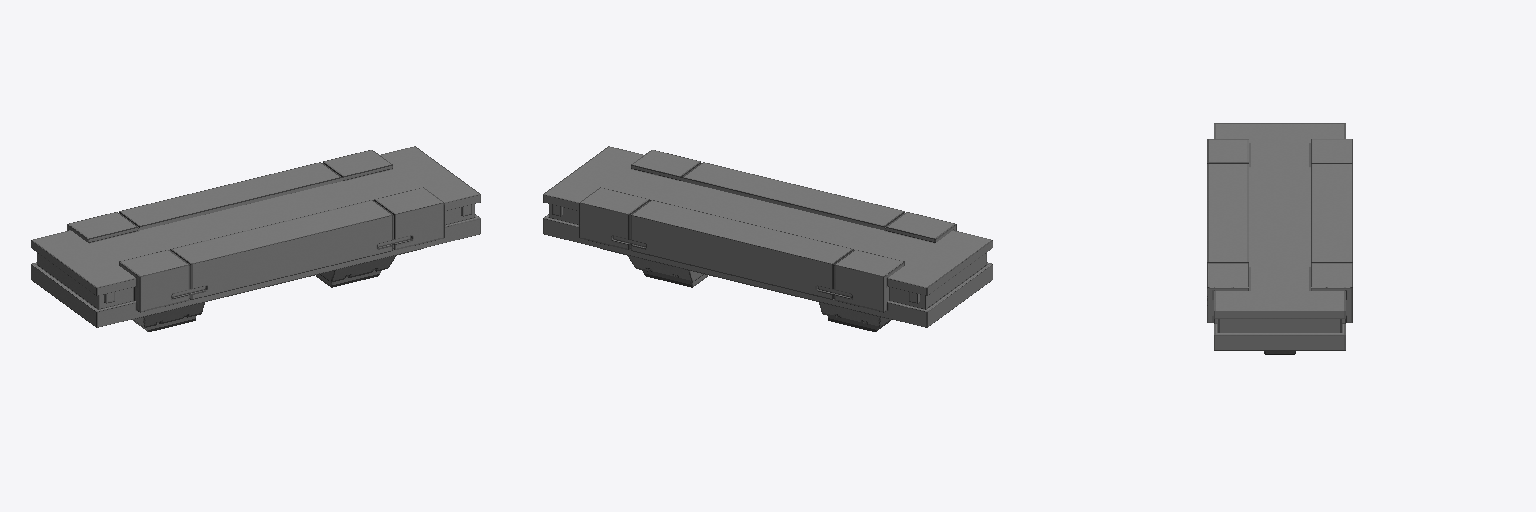
The picture shows the model from 3 angles: view 1: azimuth 30°, elevation 25°; view 2: azimuth 150°, elevation 25°; view 3: azimuth 270°, elevation 25°; orthographic projection.
Visible parts, largest first — view 1: Platform.obj; view 2: Platform.obj; view 3: Platform.obj.
Boxes of the visible parts, x1=… form: Platform.obj: x1=31, y1=146, x2=480, y2=331; Platform.obj: x1=543, y1=146, x2=992, y2=331; Platform.obj: x1=1207, y1=123, x2=1352, y2=354.
Size of the model in its own units: 5.05 by 1.07 by 1.65.
1 materials, 1 textured.